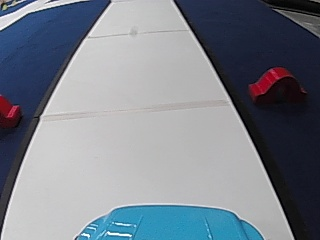bridge: (244, 63, 307, 105)
